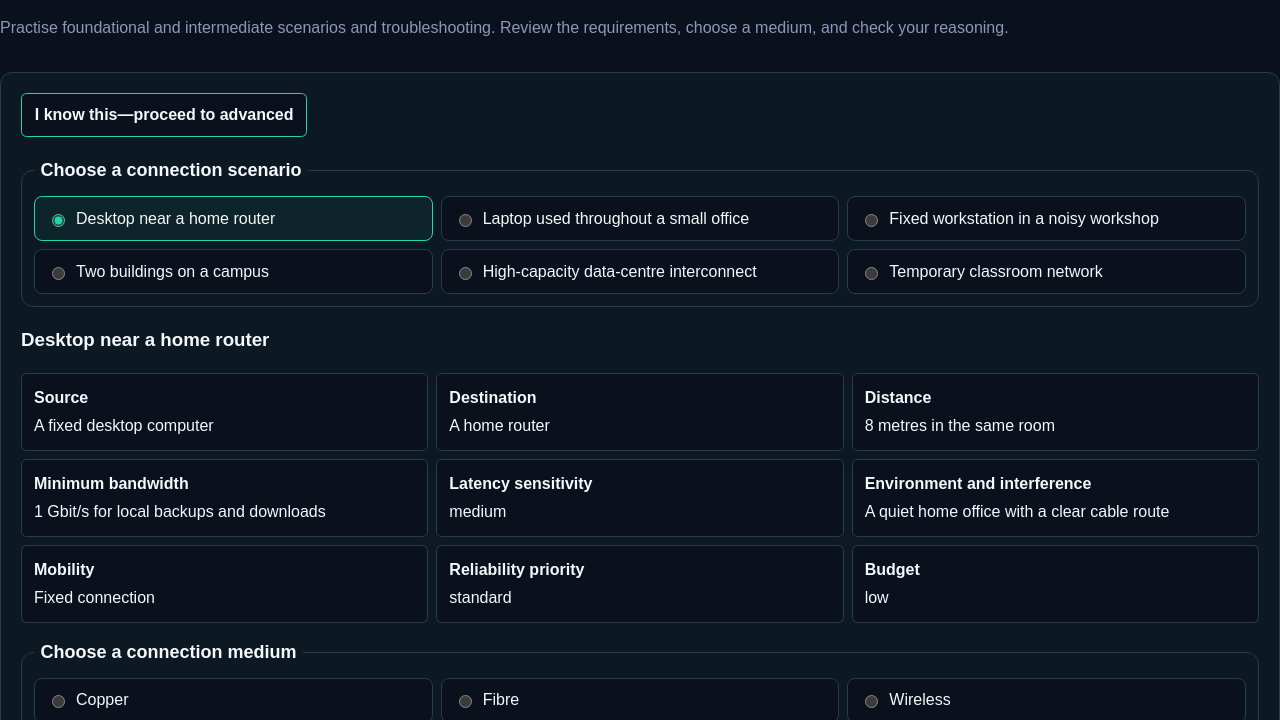
it: ConnectionMediaExperience › clears an introductory answer when advancing to intermediate practice
The image size is (1280, 720).
Click the radio button labelled "Copper" at (58, 702), box x1=52 y1=696 x2=65 y2=708
(page scrolled)
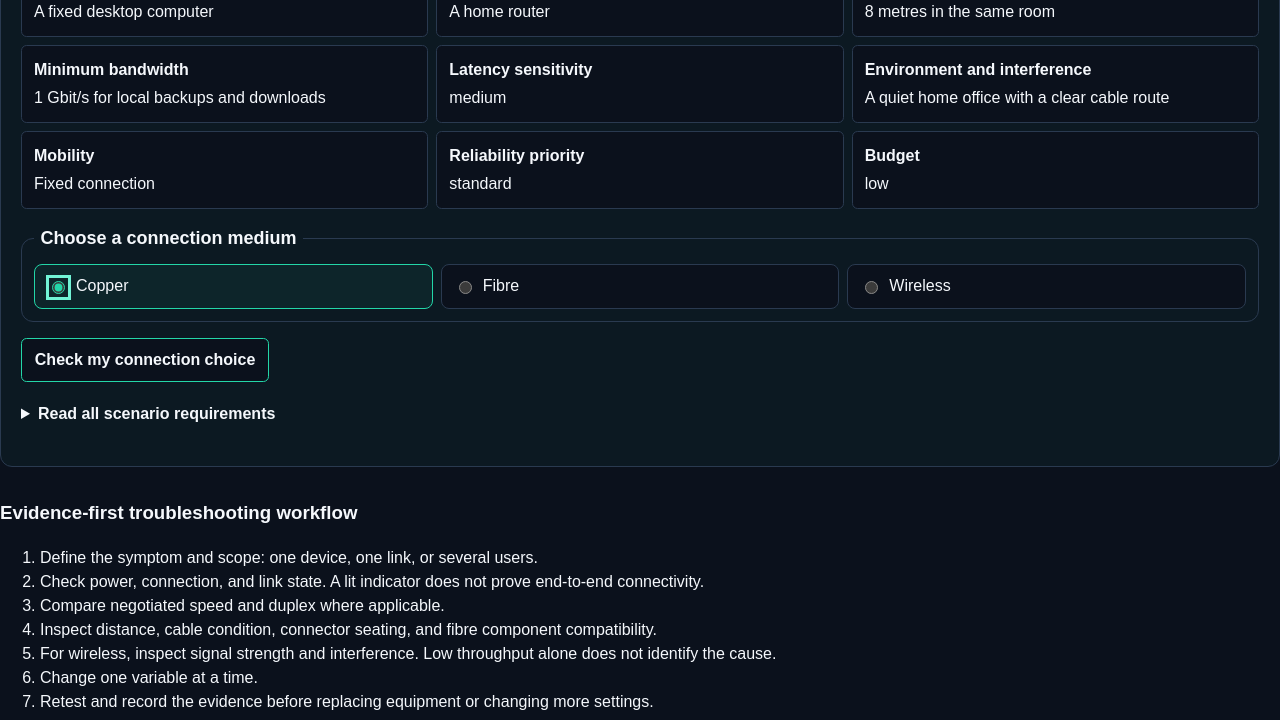
Click the button "Check my connection choice" at (145, 360), box x1=21 y1=338 x2=269 y2=382
(page scrolled)
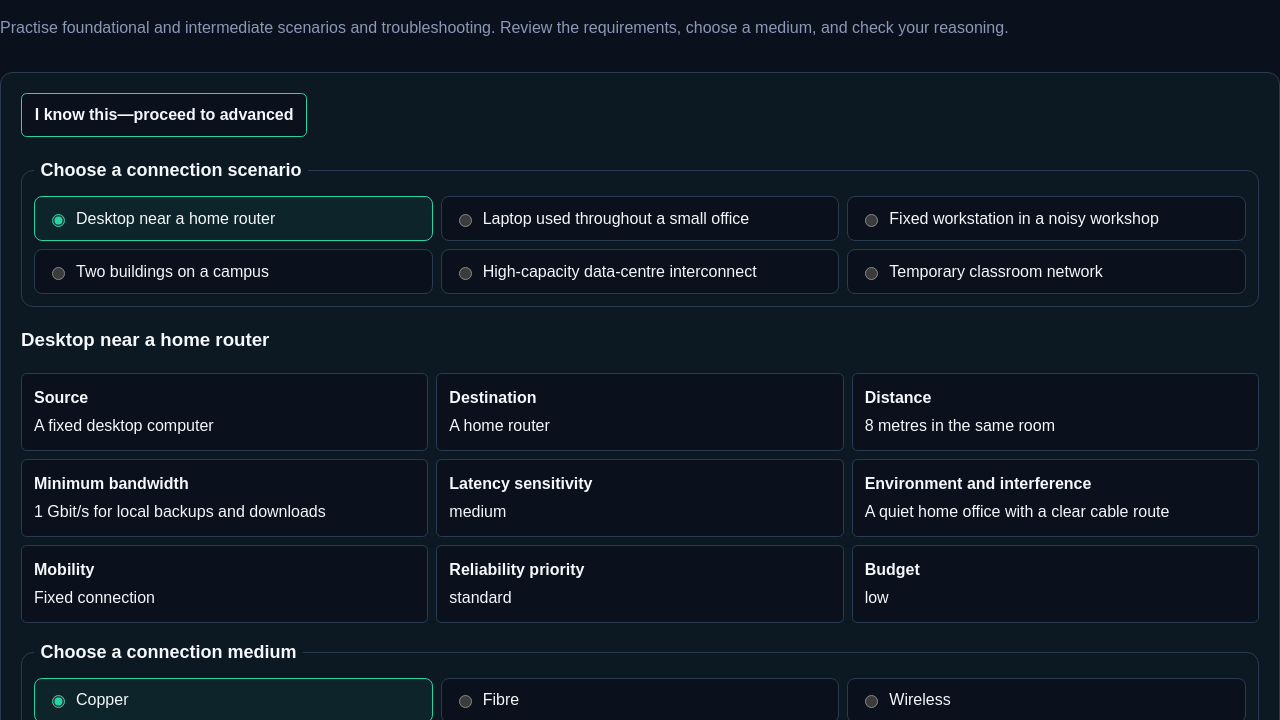
Click the button "I know this—proceed to advanced" at (164, 115), box x1=21 y1=93 x2=307 y2=137
(page scrolled)
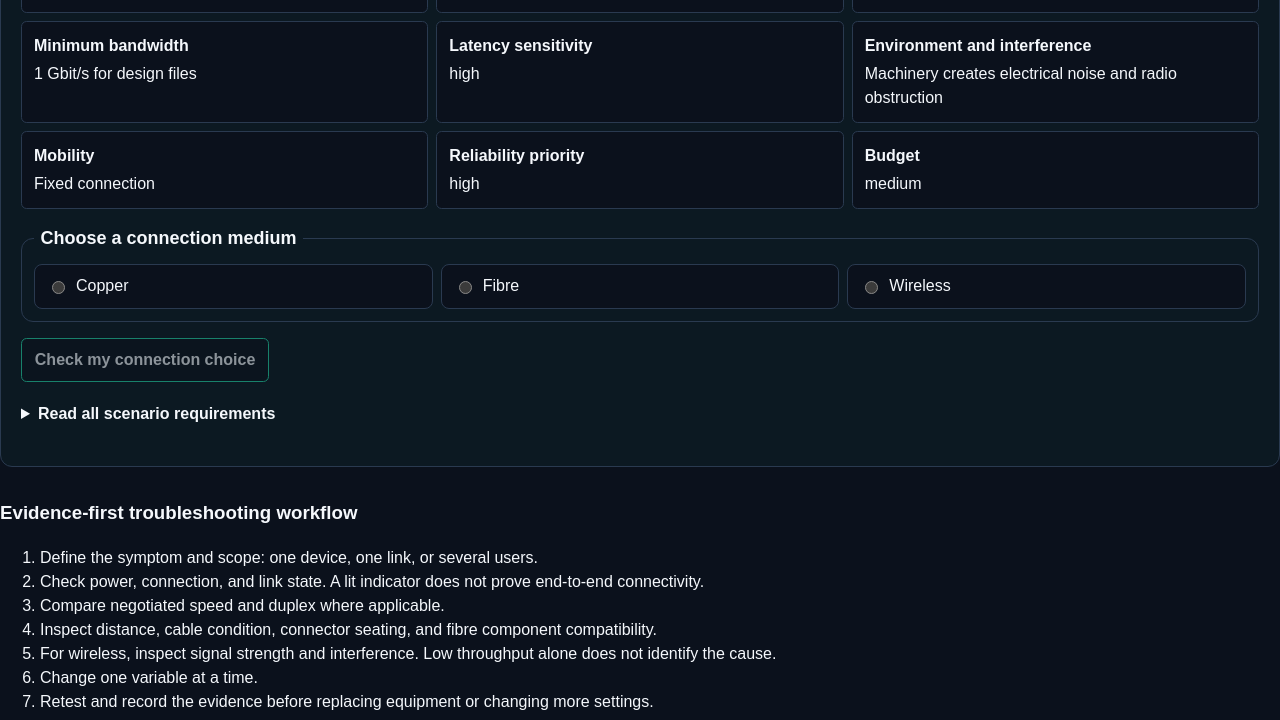
Expected: the radio button labelled "Copper" is not checked, x1=52 y1=282 x2=65 y2=294
Expected: the button "Check my connection choice" is disabled, x1=21 y1=338 x2=269 y2=382
